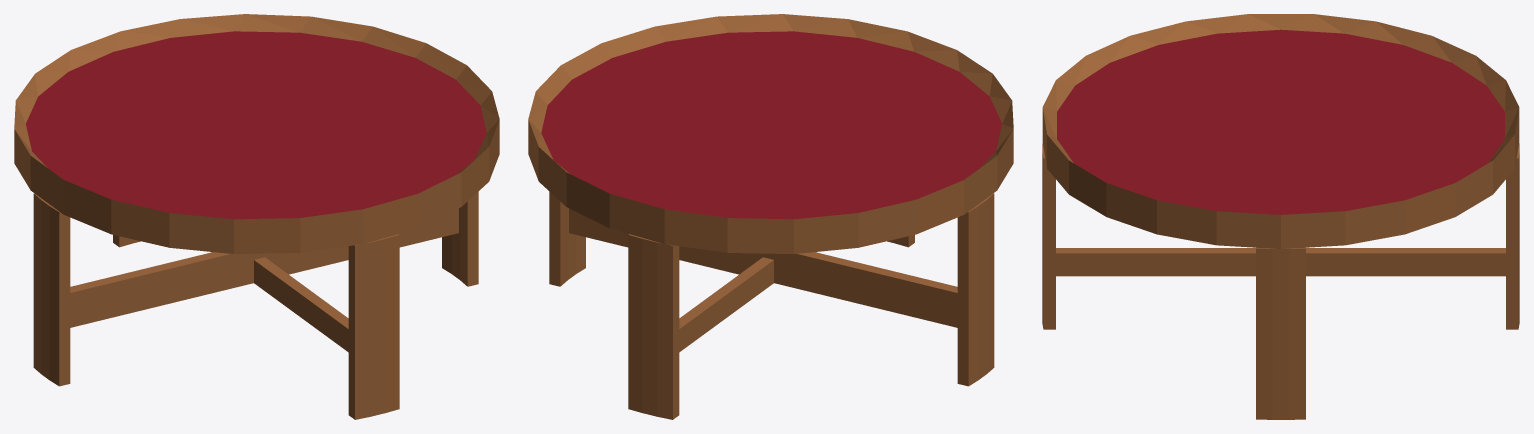
The model's file is round-table-by-cmht-oculus-3paLEqUfSyb.glb.
3 renders of one model, left to right at view 1: azimuth 30°, elevation 25°; view 2: azimuth 150°, elevation 25°; view 3: azimuth 270°, elevation 25°, orthographic.
Parts seen in each view (by area): view 1: Node; view 2: Node; view 3: Node.
Boxes of the visible parts, x1,y1,x2,y2 form: Node: (14, 14, 499, 419); Node: (528, 14, 1013, 419); Node: (1042, 14, 1519, 419).
Bounding box in the file's own units: 37.99 × 18 × 37.98.
